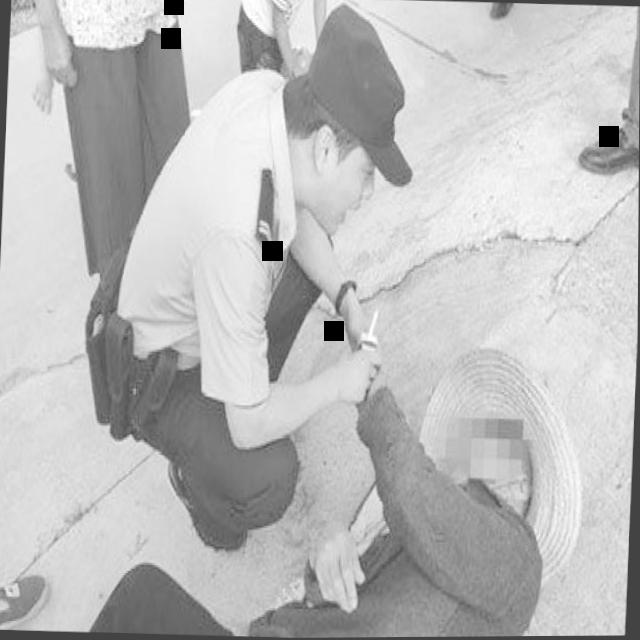Fall-Detected: (0, 303, 607, 640)
